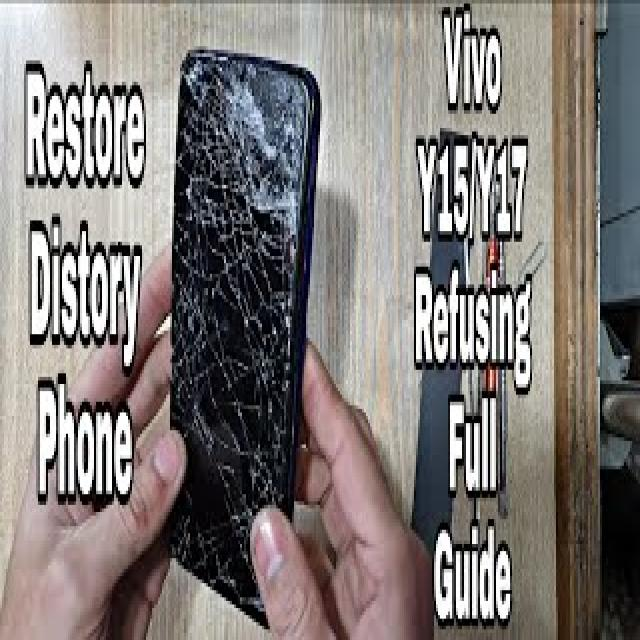mobile phone: (164, 43, 322, 629)
